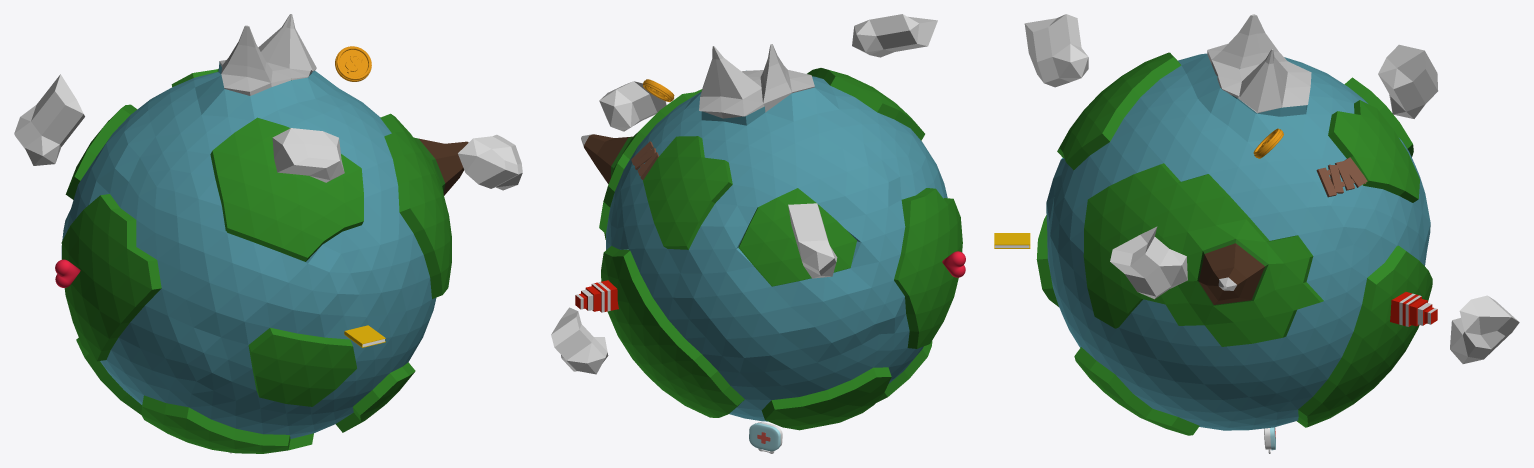
The picture shows the model from 3 angles, left to right: view 1: azimuth 30°, elevation 25°; view 2: azimuth 150°, elevation 25°; view 3: azimuth 270°, elevation 25°; orthographic projection. The views are drawn at different scales.
Parts seen in each view (by area): view 1: Earth, Icosphere.004_Icosphere.005, Icosphere.001_Icosphere.002, Icosphere.002_Icosphere.003, Coin, Plane, Plane.001; view 2: Earth, Icosphere.001_Icosphere.002, Icosphere.004_Icosphere.005, Icosphere.003_Icosphere.004, Icosphere.002_Icosphere.003, Building, Cube.003, Cube_Cube.003, Plane.001; view 3: Earth, Icosphere.001_Icosphere.002, Icosphere.002_Icosphere.003, Icosphere.004_Icosphere.005, Icosphere.003_Icosphere.004, Building, Cube_Cube.003, Plane.
Part boxes in pixels (box(x1,y1,x2,y2)): Earth: box(61, 14, 468, 453); Icosphere.004_Icosphere.005: box(14, 74, 84, 165); Icosphere.001_Icosphere.002: box(272, 128, 344, 182); Icosphere.002_Icosphere.003: box(458, 134, 522, 190); Coin: box(335, 46, 371, 81); Plane: box(344, 325, 385, 347); Plane.001: box(55, 259, 80, 287); Earth: box(581, 44, 962, 430); Icosphere.001_Icosphere.002: box(852, 14, 937, 57); Icosphere.004_Icosphere.005: box(788, 203, 837, 278); Icosphere.003_Icosphere.004: box(551, 307, 608, 374); Icosphere.002_Icosphere.003: box(599, 81, 666, 131); Building: box(575, 280, 618, 312); Cube.003: box(749, 422, 782, 453); Cube_Cube.003: box(631, 141, 658, 179); Plane.001: box(942, 251, 965, 277); Earth: box(1036, 14, 1432, 435); Icosphere.001_Icosphere.002: box(1024, 14, 1088, 87); Icosphere.002_Icosphere.003: box(1110, 226, 1187, 299); Icosphere.004_Icosphere.005: box(1378, 44, 1438, 118); Icosphere.003_Icosphere.004: box(1450, 295, 1519, 363); Building: box(1390, 292, 1437, 326); Cube_Cube.003: box(1316, 157, 1367, 197); Plane: box(994, 233, 1030, 248).
Bounding box in the file's own units: 2.6 × 2.53 × 2.76.
Materials: 16 (1 with a texture image).
